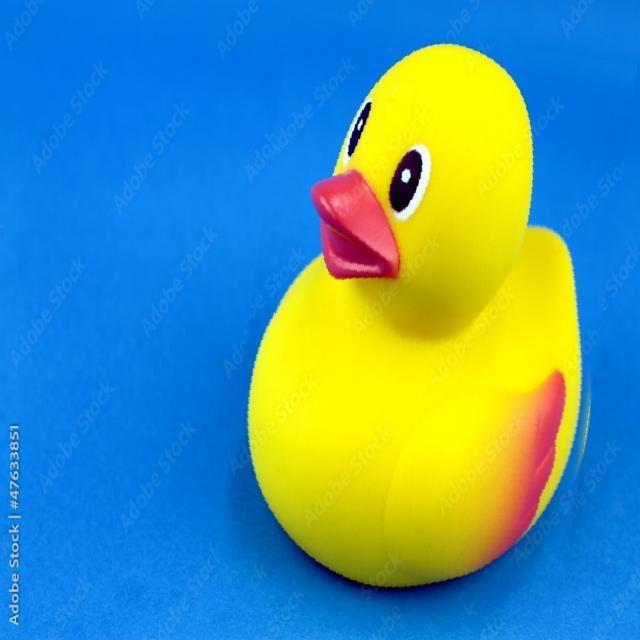rubber-duck: (248, 44, 579, 584)
